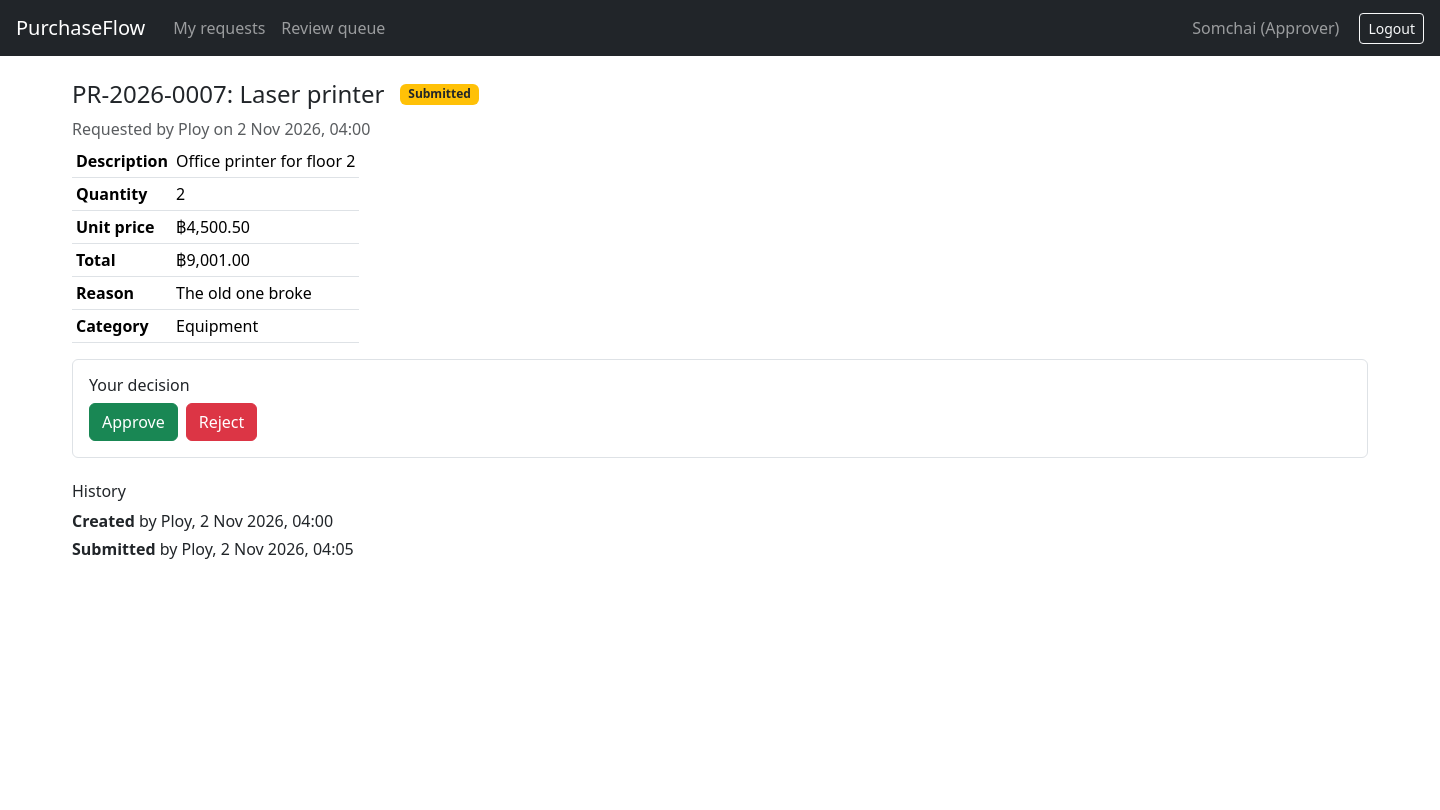
Test: request screens (component) › CT-07 / AC-32: a rejection asks for a reason and shows the server's refusal
The image size is (1440, 810).
Click the button "Reject" at [222, 422], box [186, 403, 257, 441]
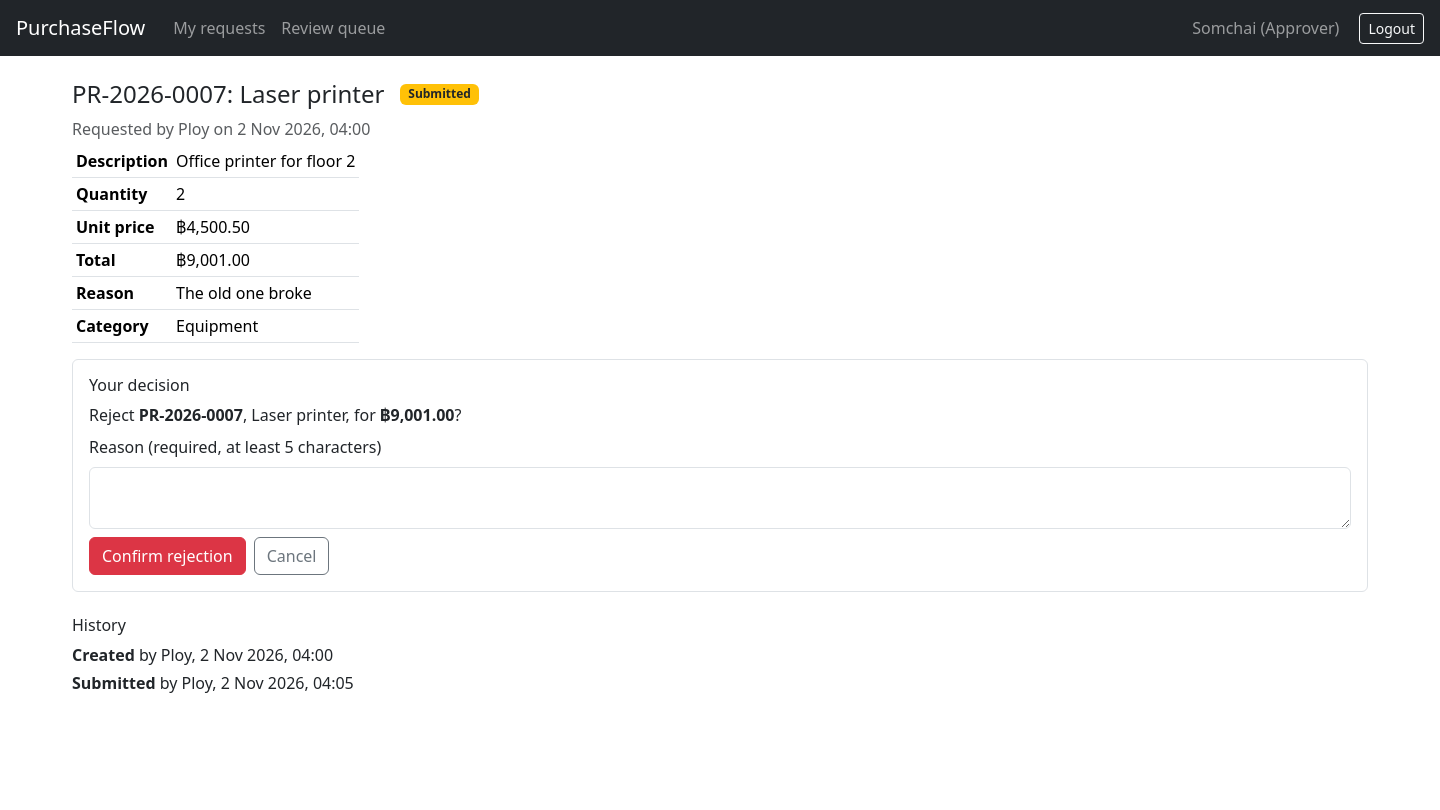
Check: the text "Reason (required, at least 5 characters)" is shown, box [89, 435, 381, 459]
Check: the text "PR-2026-0007" is shown, box [139, 404, 243, 426]
Type "no" into the text box labelled "Reason (required, at least 5 characters)" at [720, 498], box [89, 467, 1351, 529]
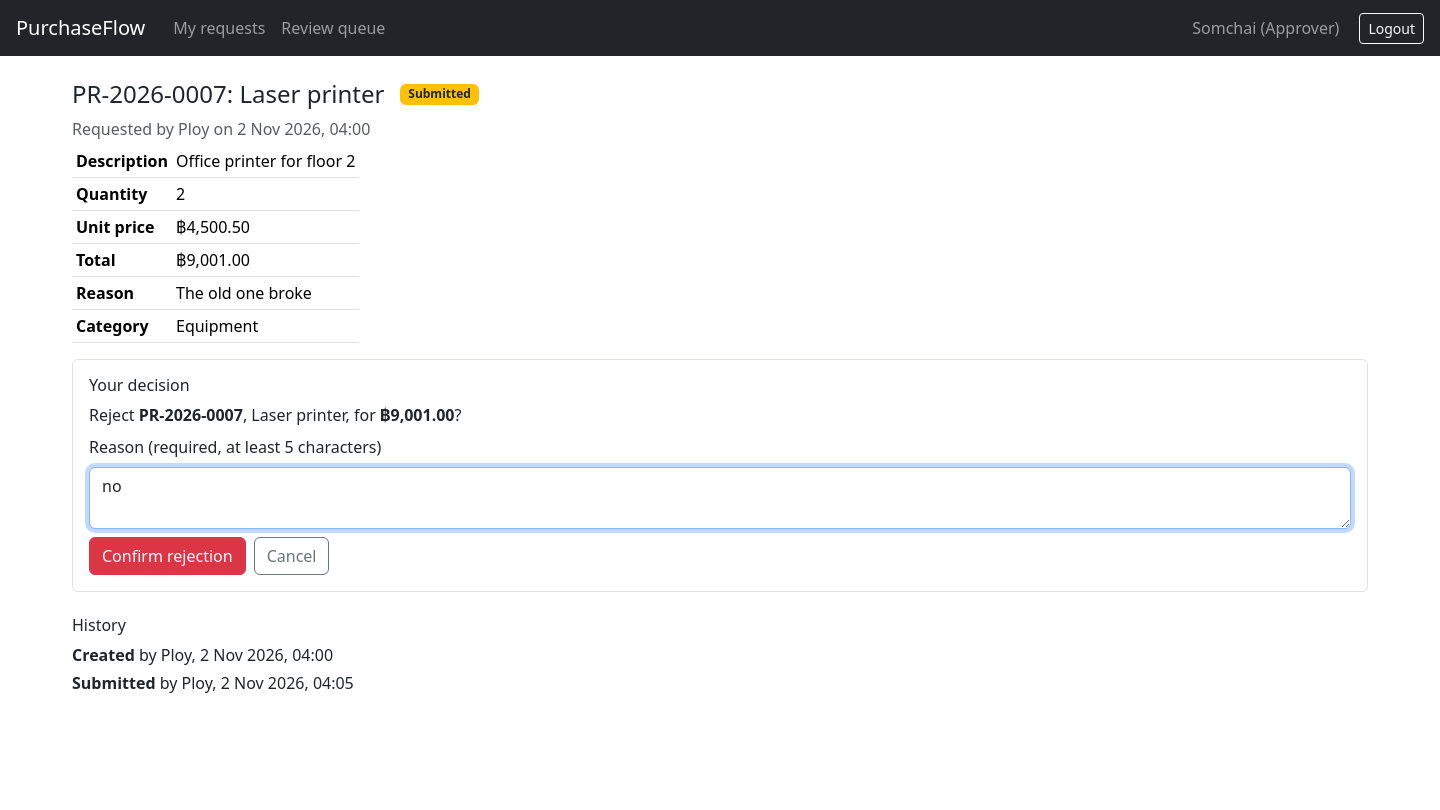
Click the button "Confirm rejection" at [167, 556], box [89, 537, 246, 575]
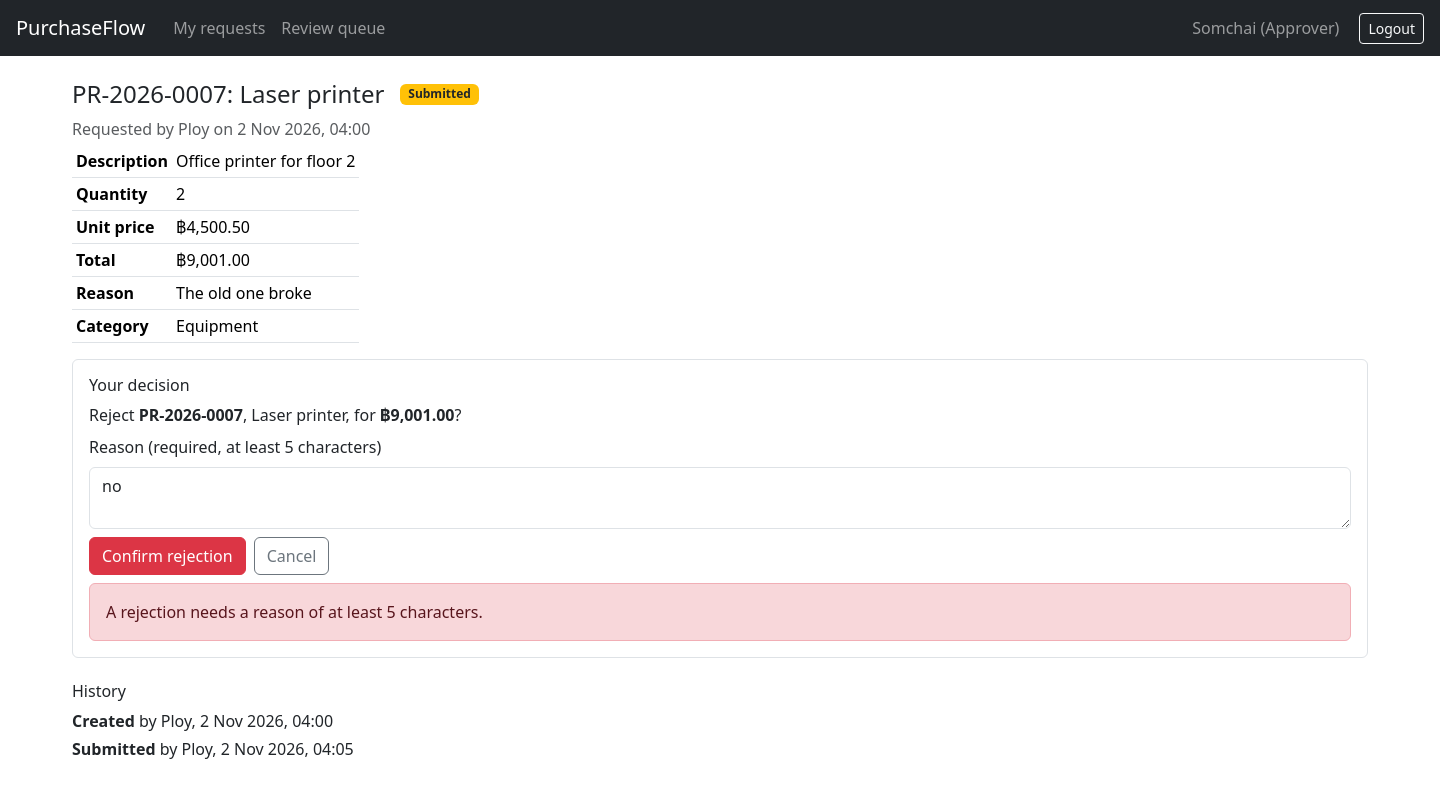
Check: the message reads "A rejection needs a reason of at least 5 characters.", box [106, 601, 483, 623]
